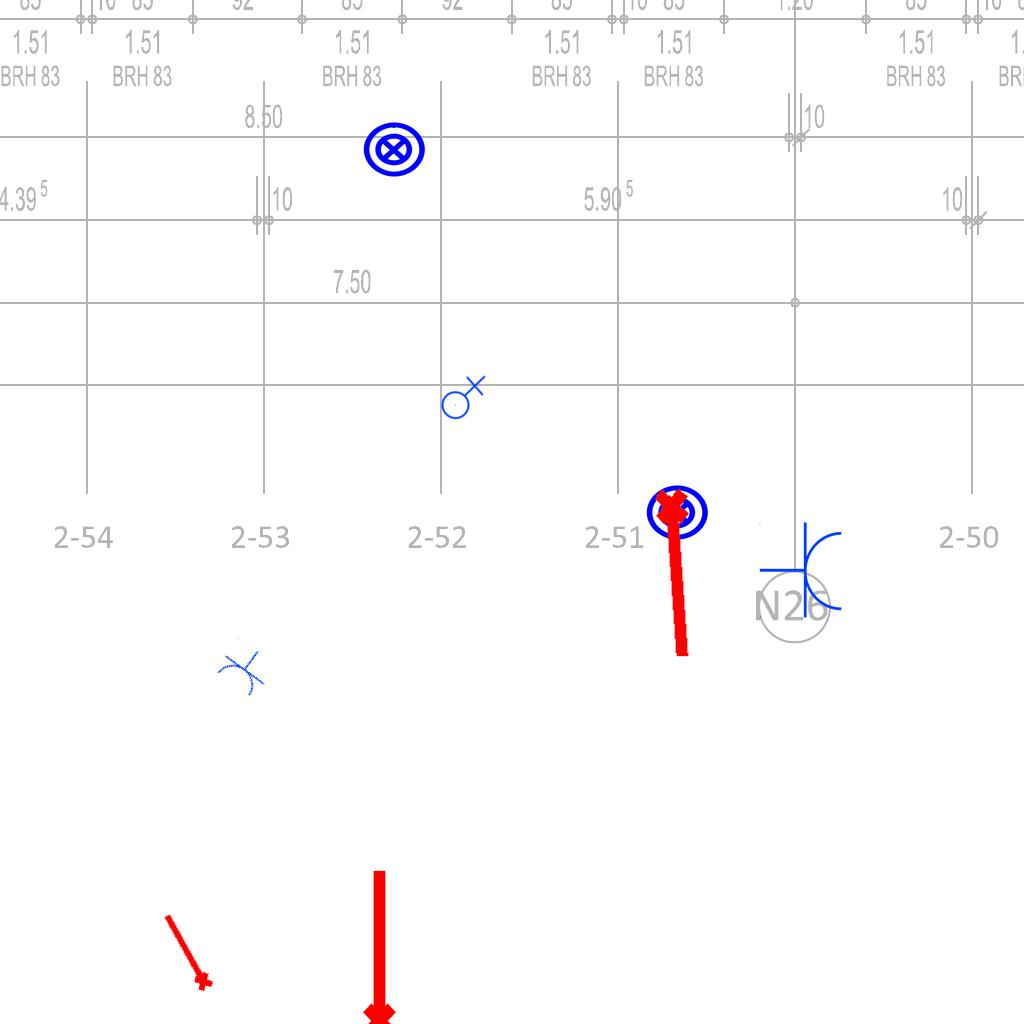ASR_Ansaugoeffnung: (649, 484, 709, 664), (354, 865, 400, 1024), (154, 908, 218, 997)
Elektroanschluss_allgemein_230V_Geraeteanschlussdose_230V: (437, 373, 486, 420)
Schukosteckdose_einfach: (759, 521, 846, 621), (212, 636, 278, 701)
Taster_beleuchtet: (361, 117, 427, 183), (644, 480, 710, 546)
